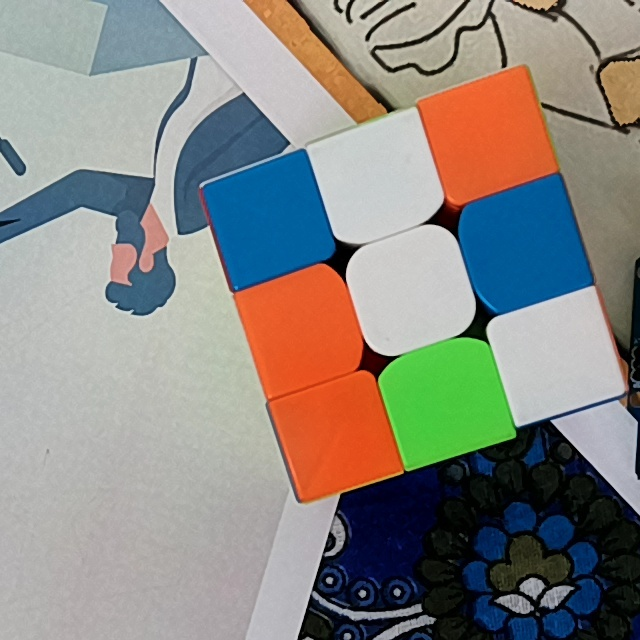tile: (404, 355, 490, 443), (485, 201, 570, 289), (448, 90, 534, 176), (514, 314, 600, 400), (257, 286, 347, 368), (367, 249, 456, 331), (334, 136, 421, 218), (230, 178, 313, 262), (294, 395, 378, 477)
